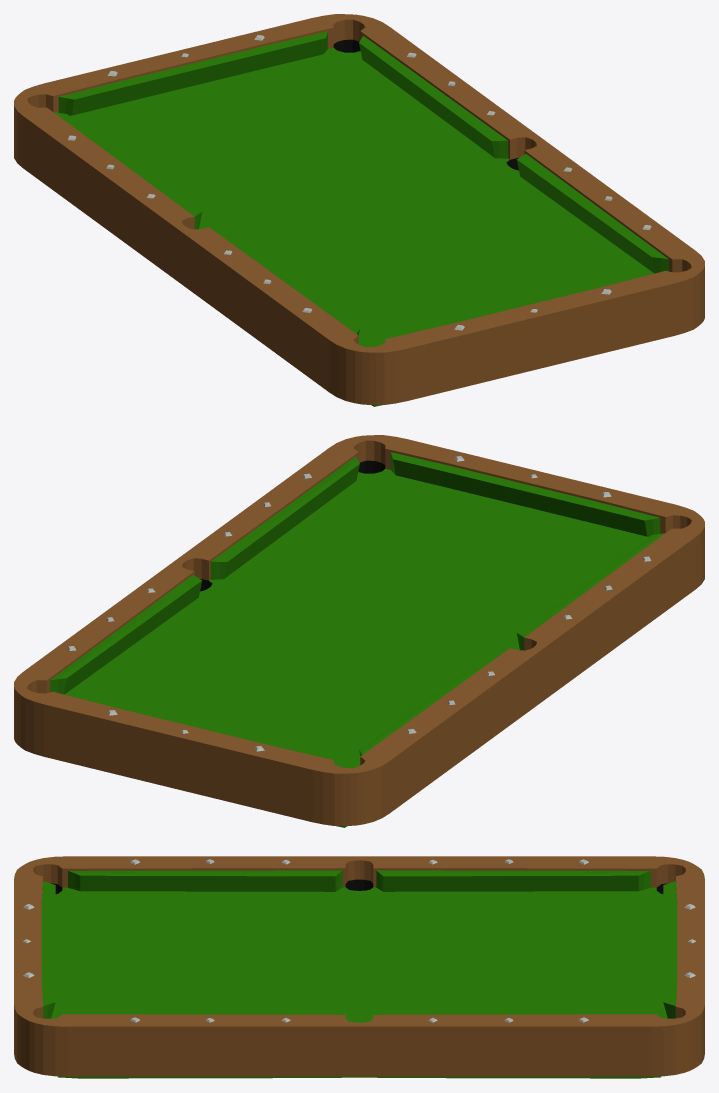
The model's file is bilard_table.fbx.
3 views of the same model, one above another, from view 1: azimuth 30°, elevation 25°; view 2: azimuth 150°, elevation 25°; view 3: azimuth 270°, elevation 25° (orthographic). The views are drawn at different scales.
Parts seen in each view (by area): view 1: Cube; view 2: Cube; view 3: Cube.
Boxes of the visible parts, <box> form: Cube: <box>14,14,704,406</box>; Cube: <box>14,435,704,827</box>; Cube: <box>14,856,704,1078</box>.
Bounding box in the file's own units: 494 × 96.27 × 847.
